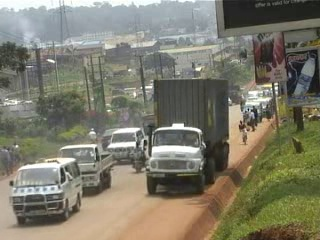Car: (101, 125, 151, 160), (96, 124, 114, 148)
Motorcycle: (128, 140, 148, 176), (84, 126, 99, 146)
